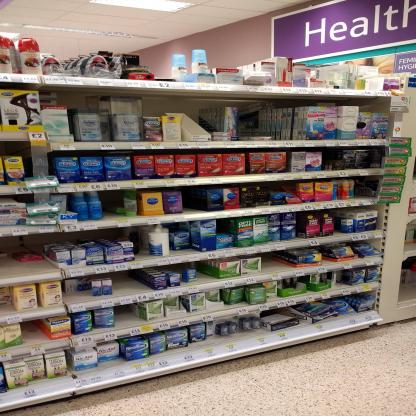Void: (0, 235, 51, 269), (234, 103, 267, 130), (119, 271, 148, 284), (181, 190, 207, 204), (260, 256, 301, 264), (118, 309, 144, 320)
